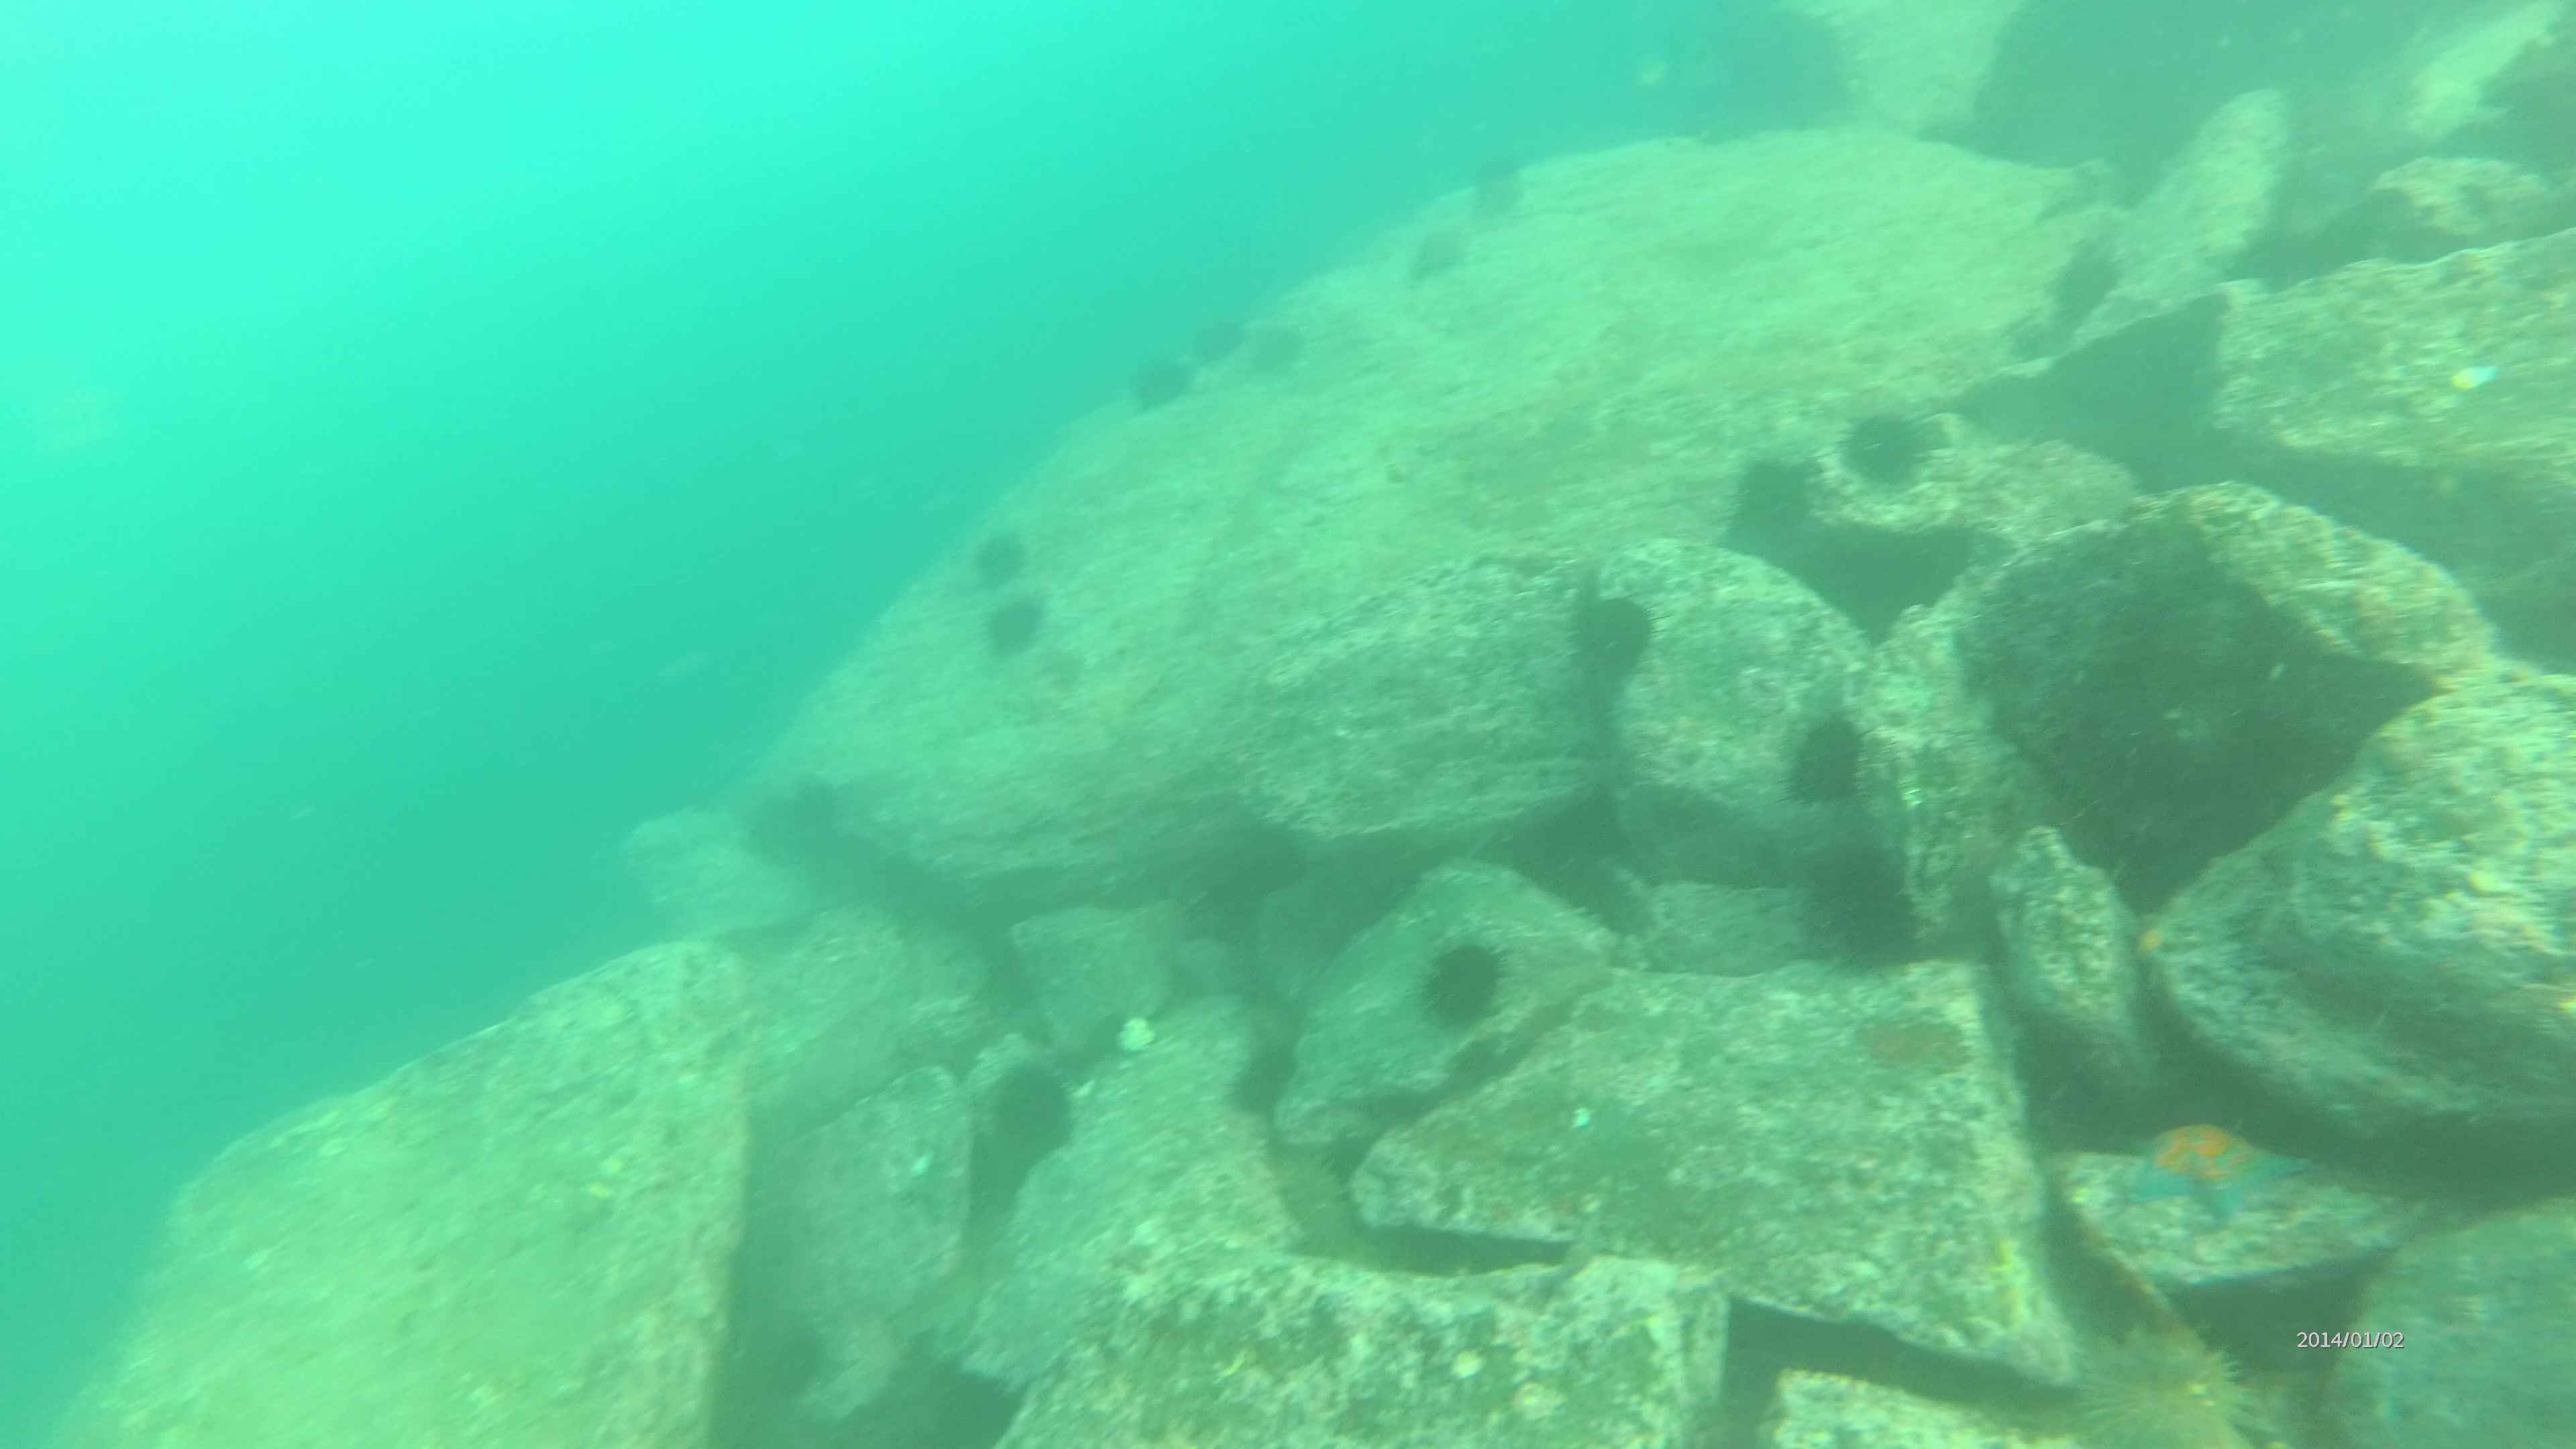echinus: (2070, 1316, 2273, 1449), (1805, 835, 1928, 975), (1419, 939, 1513, 1033), (989, 1062, 1077, 1154), (1796, 708, 1874, 810), (1571, 591, 1660, 667), (1743, 448, 1815, 540), (1844, 405, 1925, 487), (984, 591, 1046, 662), (968, 531, 1037, 589), (1468, 154, 1523, 225), (1131, 352, 1194, 407), (1408, 228, 1474, 278), (1192, 311, 1244, 361), (1258, 326, 1307, 372)
starfish: (2118, 1102, 2307, 1231)
